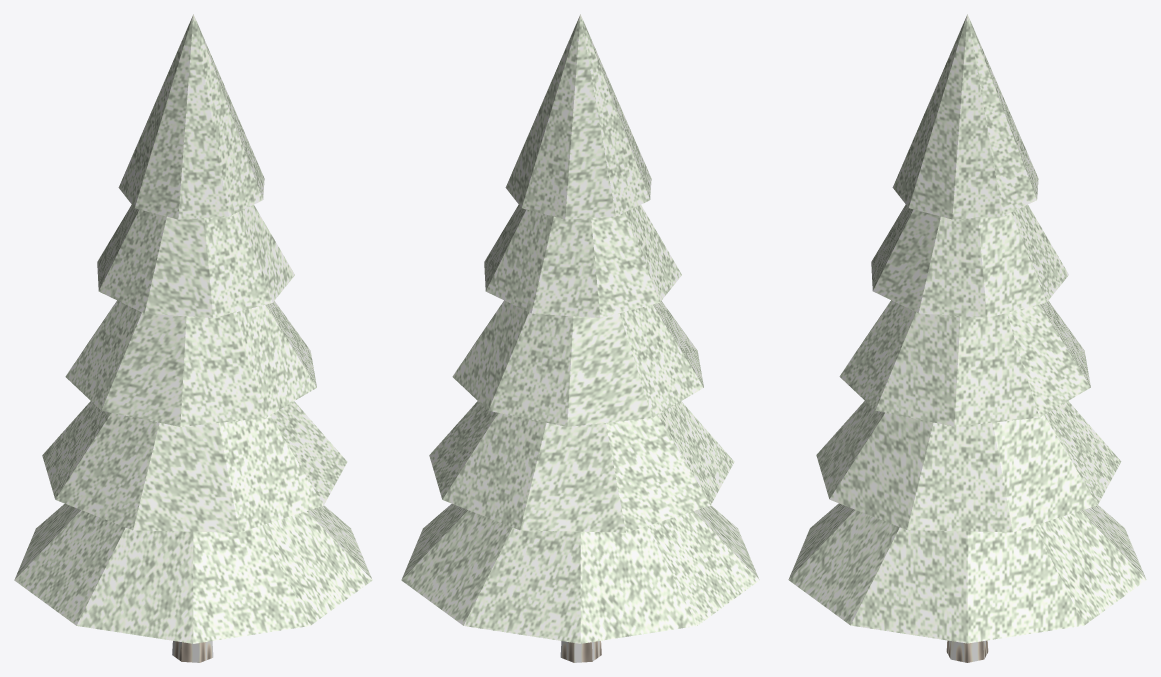
File: abete.obj
The picture shows the model from 3 angles, left to right: view 1: azimuth 30°, elevation 25°; view 2: azimuth 150°, elevation 25°; view 3: azimuth 270°, elevation 25°; orthographic projection.
Parts seen in each view (by area): view 1: aghi_001, aghi_002, aghi_003, corteccia_000; view 2: aghi_001, aghi_002, aghi_003, corteccia_000; view 3: aghi_001, aghi_002, aghi_003, corteccia_000.
Boxes of the visible parts, left/top/right/bottom form: aghi_001: left=14, top=300, right=372, bottom=643; aghi_002: left=42, top=14, right=347, bottom=532; aghi_003: left=97, top=205, right=294, bottom=317; corteccia_000: left=172, top=641, right=213, bottom=662; aghi_001: left=401, top=300, right=759, bottom=643; aghi_002: left=429, top=14, right=734, bottom=532; aghi_003: left=484, top=205, right=681, bottom=317; corteccia_000: left=560, top=641, right=601, bottom=662; aghi_001: left=788, top=300, right=1146, bottom=643; aghi_002: left=816, top=14, right=1121, bottom=532; aghi_003: left=871, top=204, right=1068, bottom=317; corteccia_000: left=946, top=640, right=988, bottom=662.
Size of the model in its own units: 3.3 by 6.6 by 3.35.
Materials: 4 (4 with a texture image).
